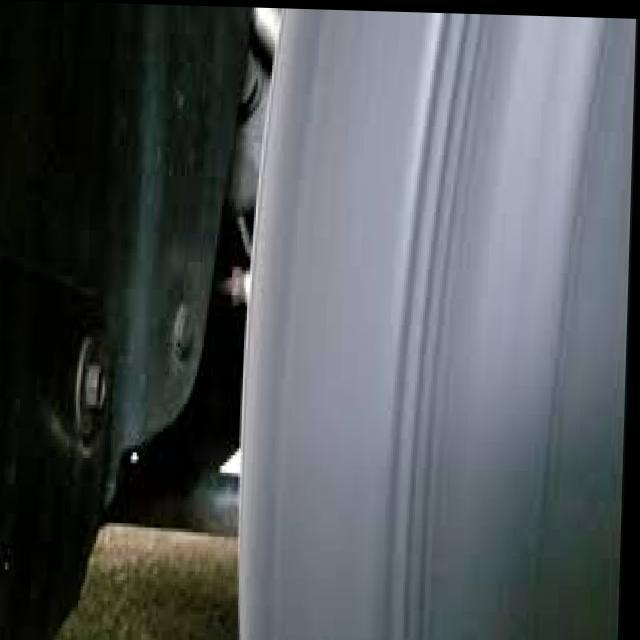Flat spots: (238, 10, 639, 639)
